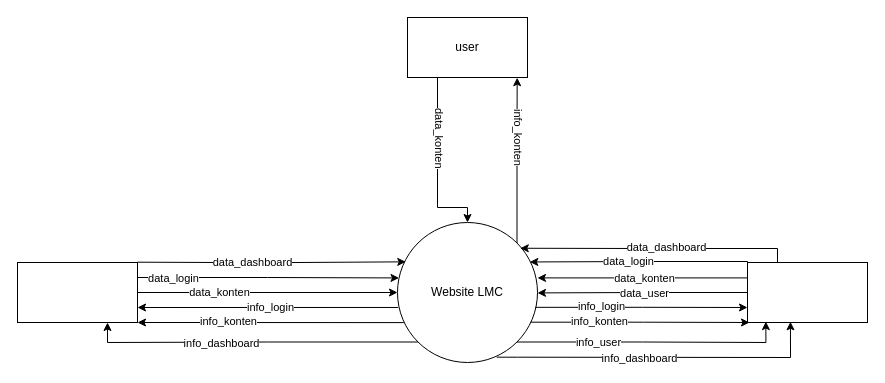
The diagram is 885 pixels wide and 383 high, and some of its shapes have lost their labels. Each missing label, with the box of its shape:
admin: (16, 262, 138, 322)
owner: (746, 262, 868, 322)
